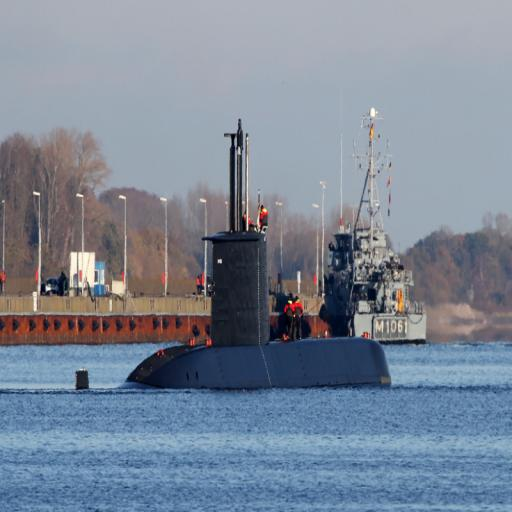submarine: (76, 122, 395, 393)
